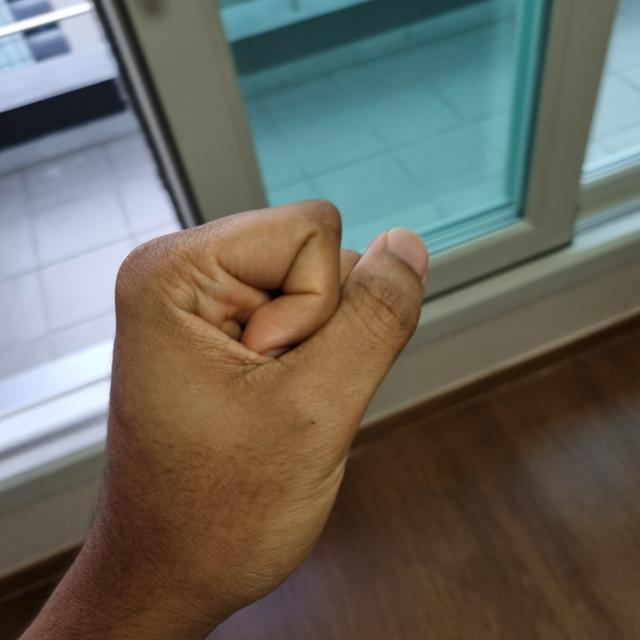Rock: (92, 195, 423, 622)
